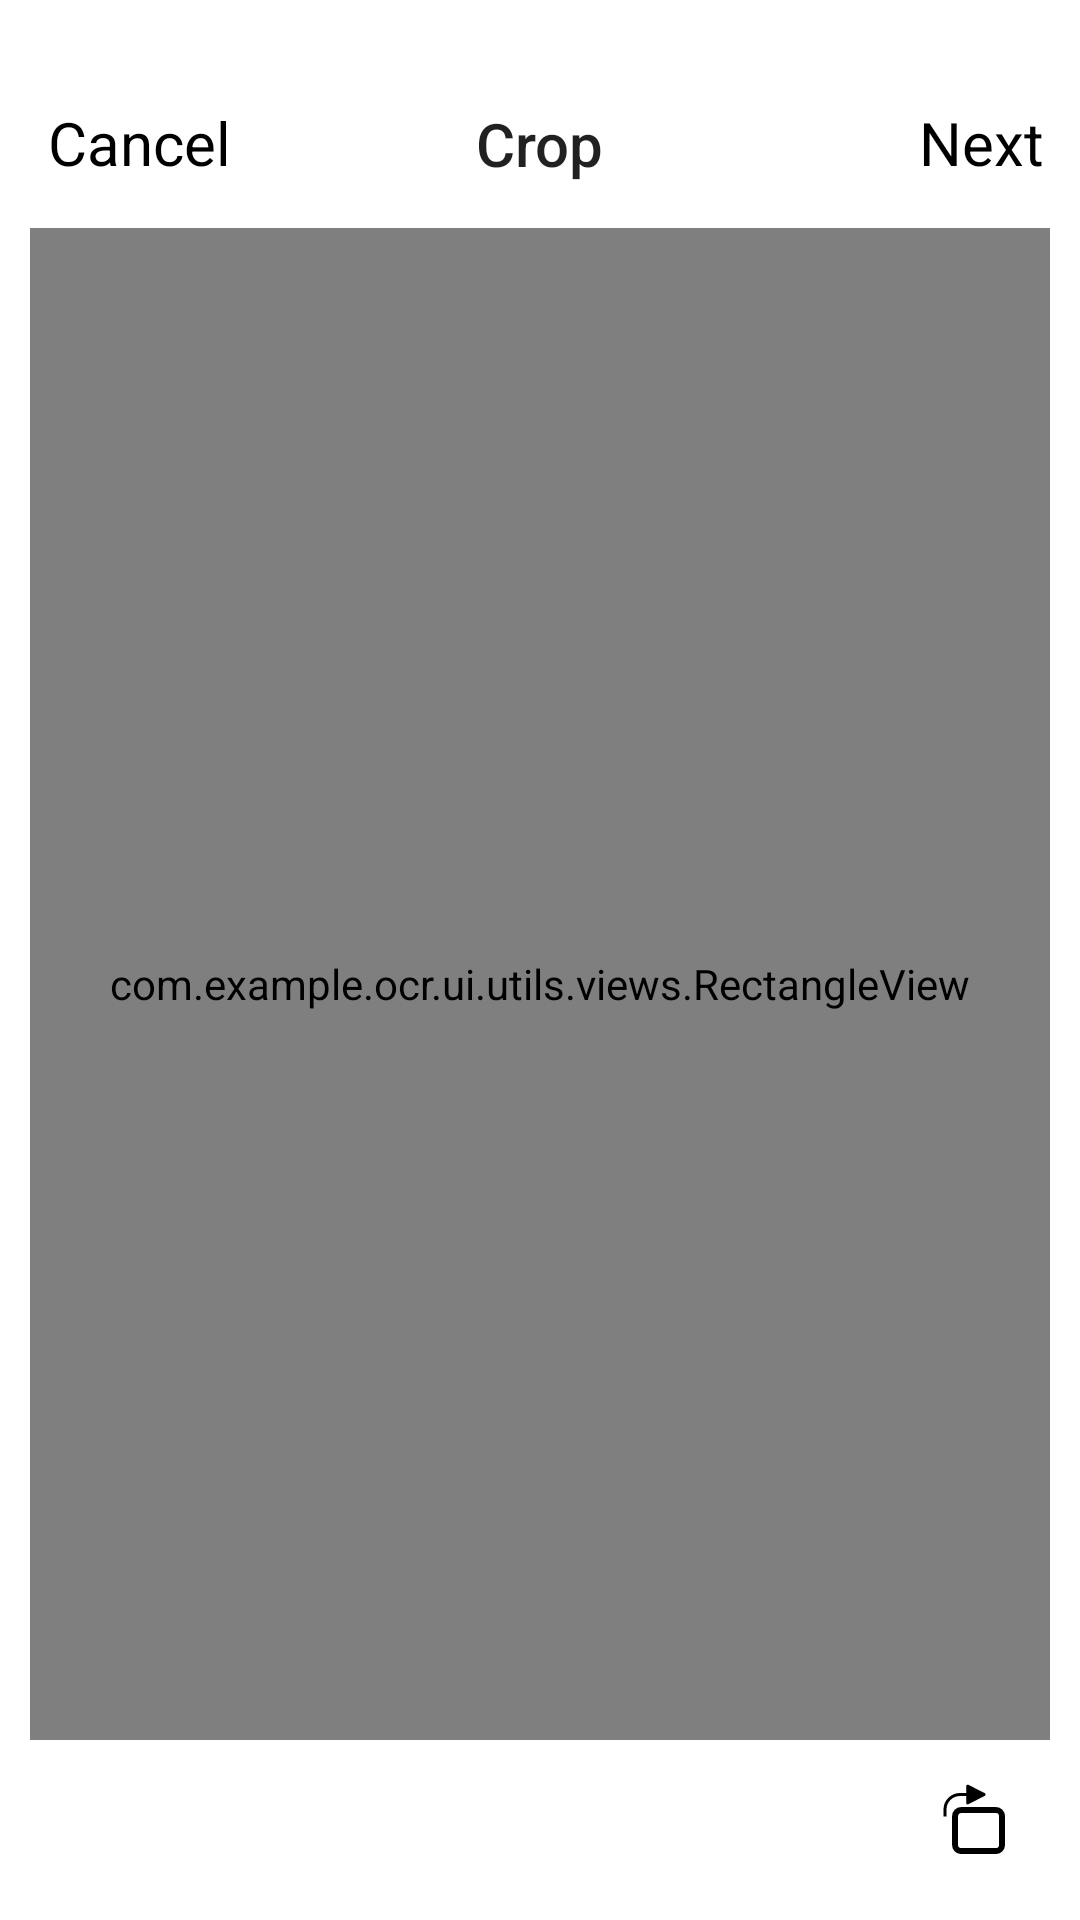

Screen size 1080px×1920px. Icon name, then its center in pixels as (x=x, y=y):
Rotate this image by 90 degrees: (x=974, y=1819)
